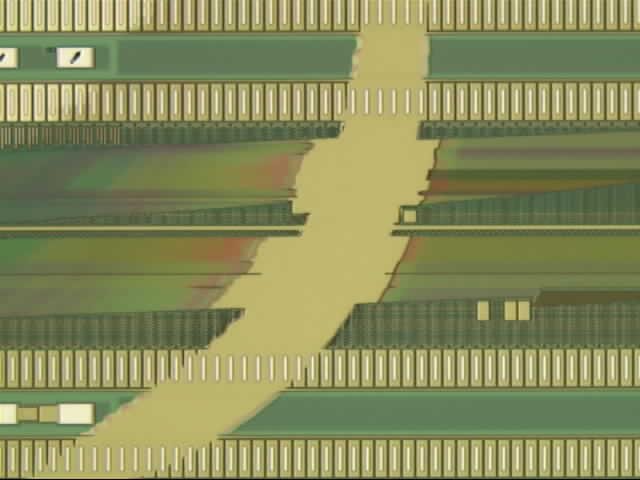COATING BAD: (14, 1, 459, 480)
